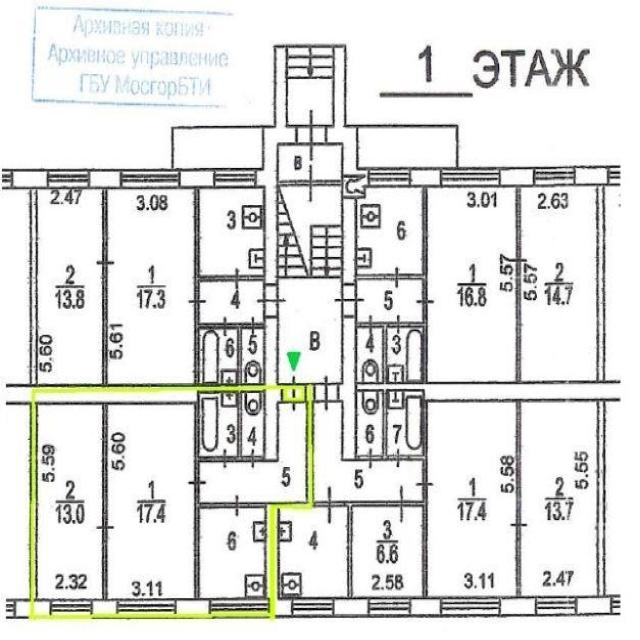Bathrooms: (199, 394, 237, 455), (388, 392, 422, 454), (200, 329, 237, 383), (388, 328, 423, 381), (358, 393, 382, 455), (243, 393, 264, 456), (358, 328, 382, 382), (242, 328, 263, 384)
Corridors: (314, 402, 421, 501), (201, 402, 306, 501), (279, 285, 341, 382), (358, 124, 458, 167), (172, 127, 264, 170), (357, 280, 422, 321), (200, 283, 263, 322), (279, 145, 341, 180)
Doors: (296, 107, 327, 162), (296, 163, 327, 203), (386, 484, 417, 524), (314, 485, 345, 525), (334, 284, 366, 316), (256, 285, 287, 317), (281, 375, 307, 412), (314, 374, 339, 412), (185, 468, 208, 498), (415, 468, 436, 498), (225, 492, 249, 518), (415, 287, 436, 316), (95, 513, 115, 543), (510, 509, 528, 539), (95, 250, 115, 277), (358, 448, 382, 470), (225, 267, 249, 289), (385, 266, 409, 288), (215, 447, 238, 469), (214, 316, 238, 337), (361, 313, 383, 335), (388, 313, 409, 335), (187, 291, 207, 313), (387, 448, 409, 468), (243, 447, 260, 469), (243, 316, 260, 334)
LBwalls: (325, 43, 369, 286), (255, 45, 297, 285), (6, 384, 198, 406), (425, 381, 621, 402), (265, 502, 293, 618), (263, 316, 283, 461), (337, 316, 357, 461), (499, 166, 534, 187), (335, 597, 368, 619), (500, 596, 536, 616), (16, 598, 50, 619), (13, 169, 48, 189), (177, 598, 210, 619), (576, 596, 612, 615), (410, 597, 441, 618), (179, 169, 213, 188), (576, 165, 608, 185), (90, 169, 121, 189), (410, 167, 440, 187), (91, 599, 117, 619)
Offices: (428, 187, 515, 382), (428, 403, 516, 595), (108, 189, 194, 383), (108, 405, 193, 598), (521, 402, 597, 595), (522, 188, 597, 381), (37, 189, 102, 383), (37, 406, 102, 599), (352, 507, 422, 597), (200, 508, 265, 598), (279, 510, 347, 596), (358, 187, 422, 274), (1, 190, 29, 383), (1, 405, 29, 598), (201, 190, 263, 274)
Stairs: (279, 186, 342, 285), (287, 44, 334, 126)
Walls: (356, 322, 426, 461), (197, 323, 264, 463), (279, 383, 314, 509), (344, 500, 387, 598), (194, 188, 226, 292), (194, 498, 225, 599), (409, 187, 428, 289), (597, 401, 605, 597), (29, 188, 37, 384), (597, 185, 605, 380), (194, 313, 214, 384), (29, 404, 36, 600), (194, 406, 216, 468), (408, 402, 428, 469), (409, 315, 428, 383), (417, 497, 428, 598), (517, 187, 521, 383), (103, 404, 108, 513), (103, 277, 108, 385), (517, 402, 521, 509), (102, 187, 108, 250), (103, 542, 107, 600), (517, 539, 521, 596), (357, 274, 385, 279), (249, 502, 265, 508), (278, 181, 296, 186), (248, 275, 264, 280), (327, 180, 342, 185), (357, 323, 362, 327), (260, 324, 264, 329), (356, 455, 359, 461), (260, 456, 263, 461)
Windows: (441, 597, 502, 618), (209, 598, 268, 619), (120, 169, 181, 189), (440, 167, 500, 187), (116, 598, 176, 618), (367, 166, 410, 188), (291, 597, 335, 618), (368, 597, 411, 618), (213, 168, 257, 188), (50, 599, 92, 619), (535, 595, 577, 615), (533, 166, 576, 185), (47, 169, 90, 188), (607, 166, 622, 186), (1, 169, 13, 189), (6, 598, 16, 619), (611, 594, 621, 613)
